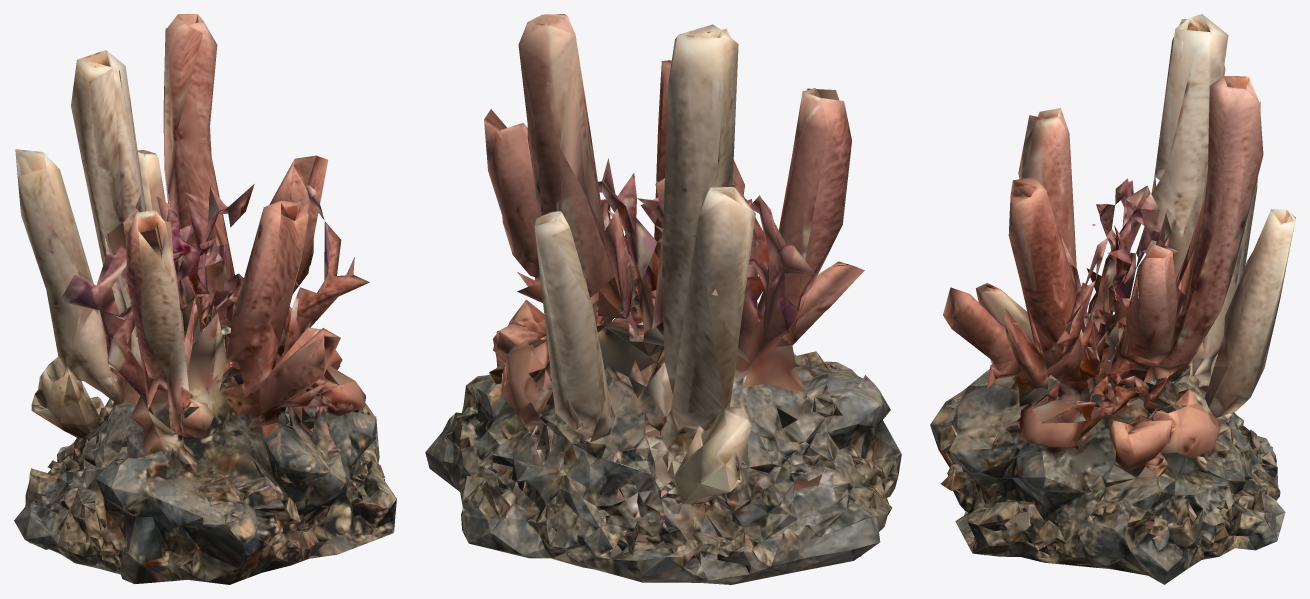
Rendered from coral.glb.
The picture shows the model from 3 angles, left to right: view 1: azimuth 30°, elevation 25°; view 2: azimuth 150°, elevation 25°; view 3: azimuth 270°, elevation 25°; orthographic projection. The views are drawn at different scales.
Visible parts, largest first — view 1: Abyss coral | Lux3D; view 2: Abyss coral | Lux3D; view 3: Abyss coral | Lux3D.
Part boxes in pixels (bbox=[...]): Abyss coral | Lux3D: bbox=[14, 14, 396, 584]; Abyss coral | Lux3D: bbox=[425, 14, 901, 584]; Abyss coral | Lux3D: bbox=[930, 14, 1295, 584].
Bounding box in the file's own units: 0.8493 × 1 × 0.7465.
Materials: 1 (1 with a texture image).
